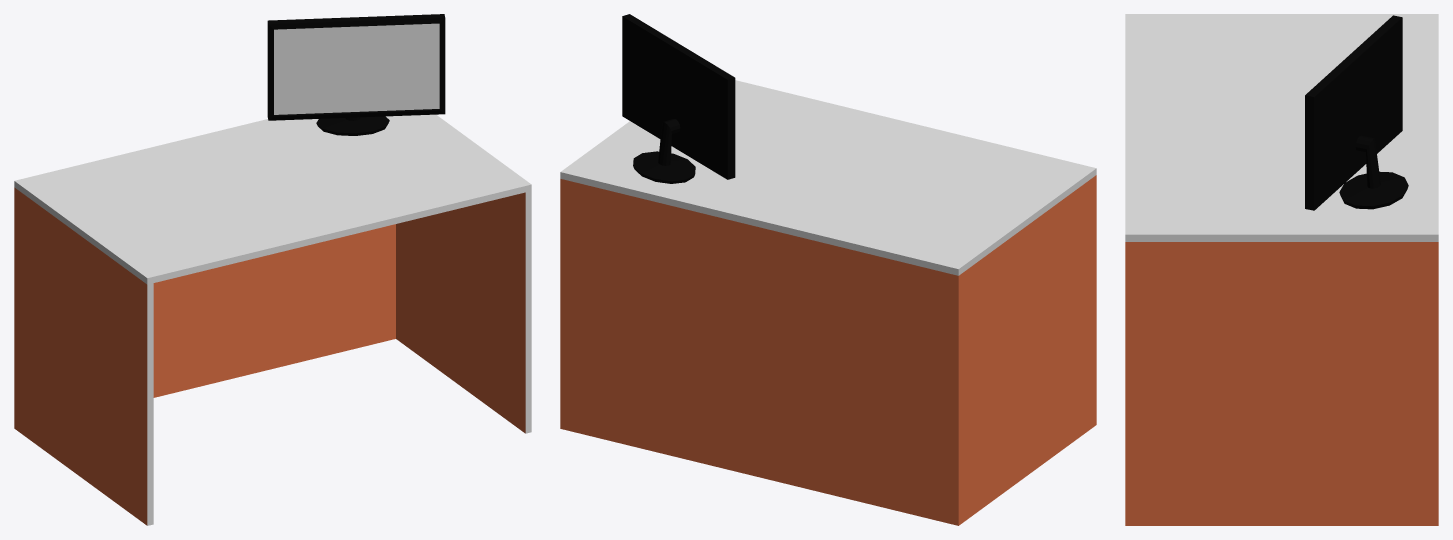
The model's file is table.glb.
3 views of the same model, side by side, from view 1: azimuth 30°, elevation 25°; view 2: azimuth 150°, elevation 25°; view 3: azimuth 270°, elevation 25° (orthographic). The views are drawn at different scales.
Parts seen in each view (by area): view 1: Table, Monitor Display; view 2: Table, Monitor Display; view 3: Table, Monitor Display.
Part boxes in pixels (x1=…): Table: x1=14, y1=114, x2=531, y2=525; Monitor Display: x1=267, y1=14, x2=445, y2=135; Table: x1=560, y1=80, x2=1096, y2=525; Monitor Display: x1=622, y1=14, x2=735, y2=183; Table: x1=1125, y1=14, x2=1438, y2=525; Monitor Display: x1=1305, y1=15, x2=1408, y2=210.
Bounding box in the file's own units: 1.25 × 1.12 × 0.75.
